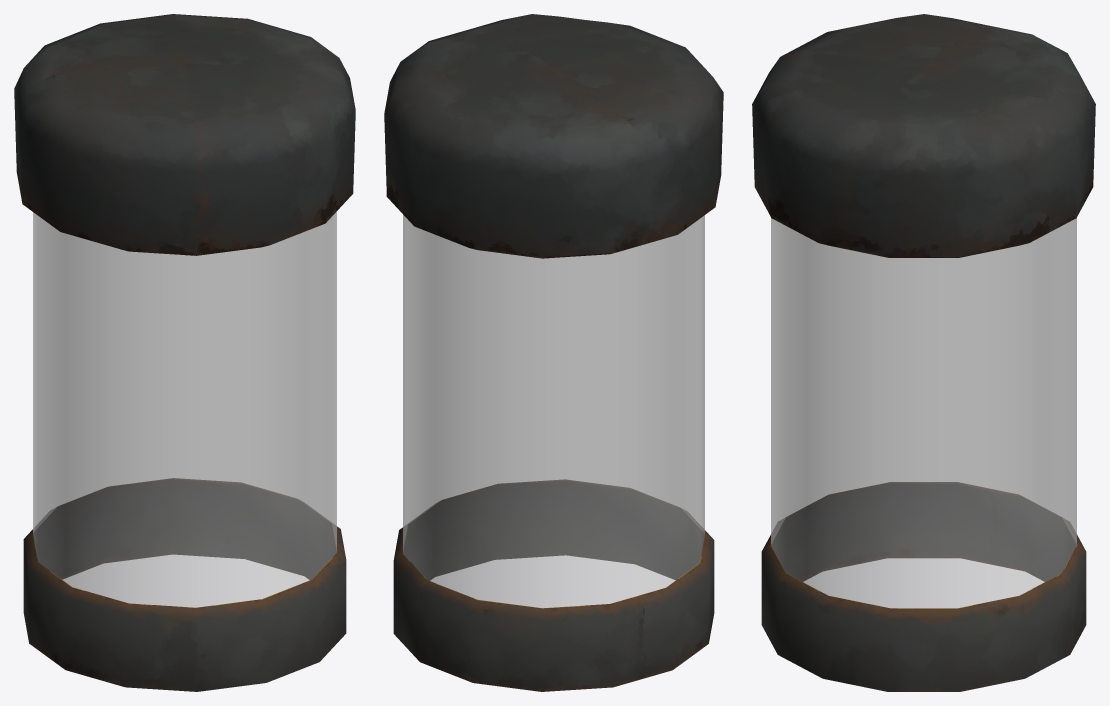
Rendered from Colbe.gltf.
3 views of the same model, side by side, from view 1: azimuth 30°, elevation 25°; view 2: azimuth 150°, elevation 25°; view 3: azimuth 270°, elevation 25° (orthographic).
Visible parts, largest first — view 1: Colbe; view 2: Colbe; view 3: Colbe.
Boxes of the visible parts, x1=… form: Colbe: x1=14, y1=14, x2=355, y2=691; Colbe: x1=384, y1=14, x2=723, y2=691; Colbe: x1=752, y1=14, x2=1095, y2=691.
Size of the model in its own units: 6.04 by 11.07 by 6.19.
Materials: 2 (1 with a texture image).
